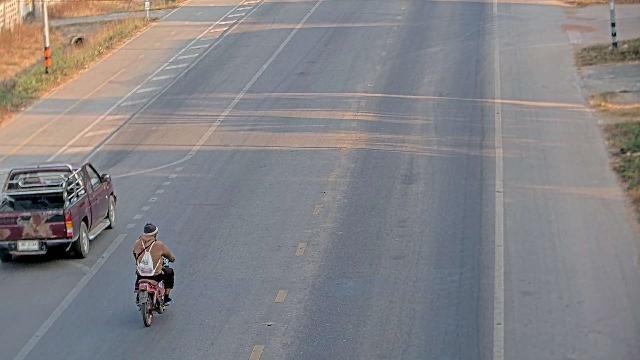motorcycle: (135, 224, 181, 326)
pickup-truck: (0, 161, 117, 262)
